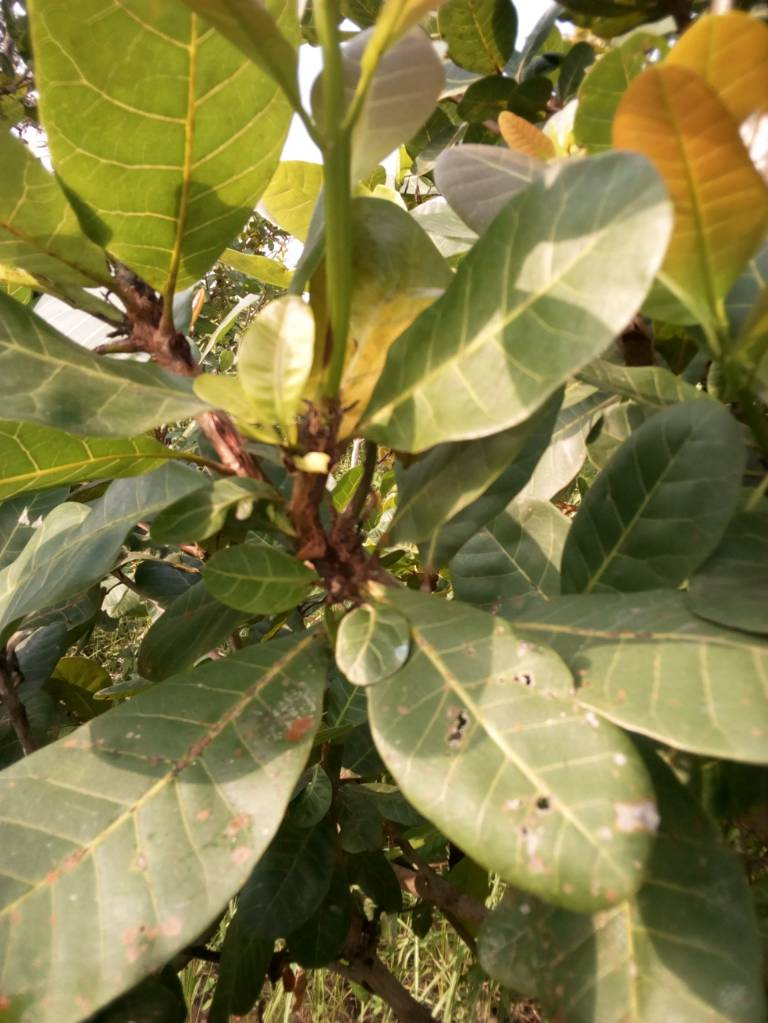Oidium: (1, 627, 363, 1014), (330, 582, 682, 928)
